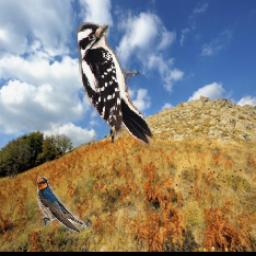Swallow: (38, 177, 88, 232)
Woodpecker: (77, 22, 154, 147)
